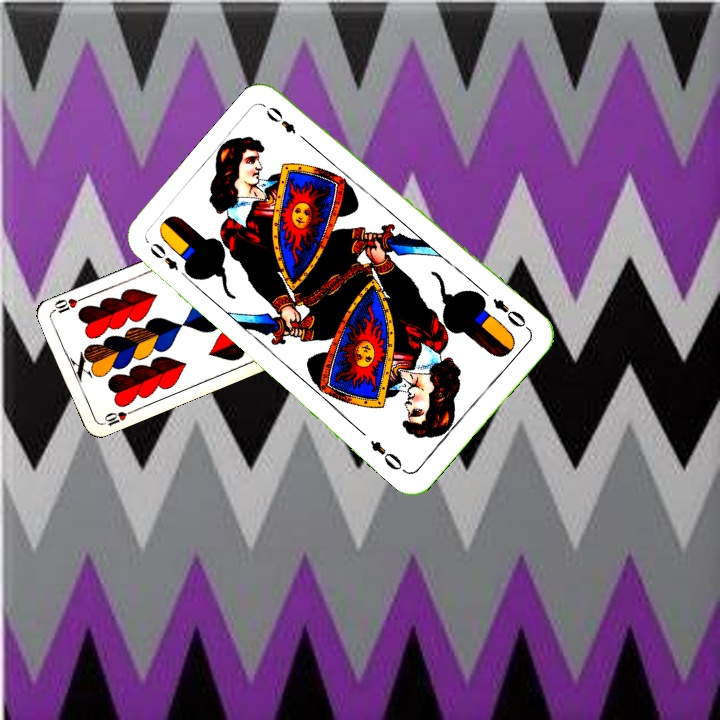EO: (145, 238, 193, 283), (488, 294, 532, 333)
H10: (97, 407, 136, 429)
